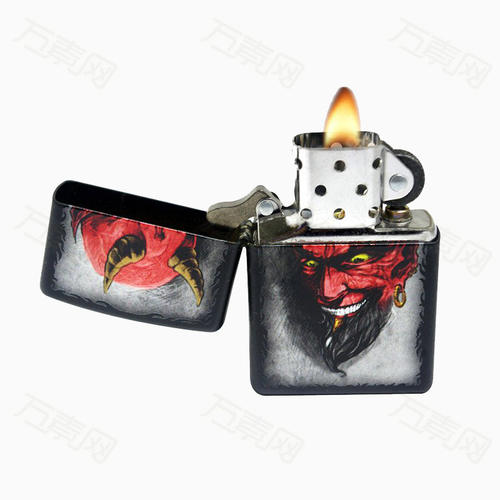fire: (301, 71, 382, 166)
